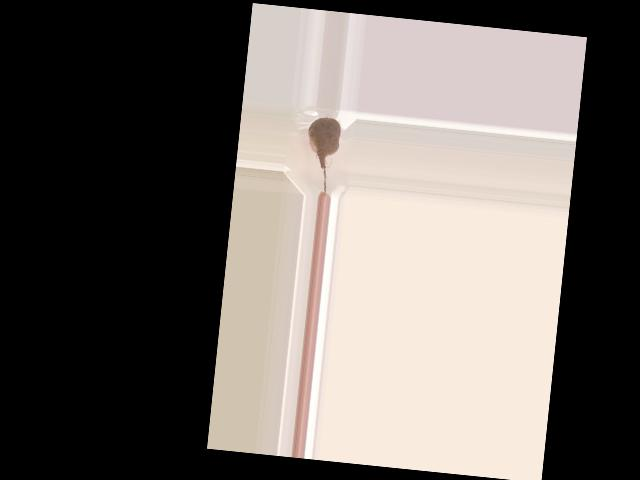beet: (301, 115, 341, 195)
